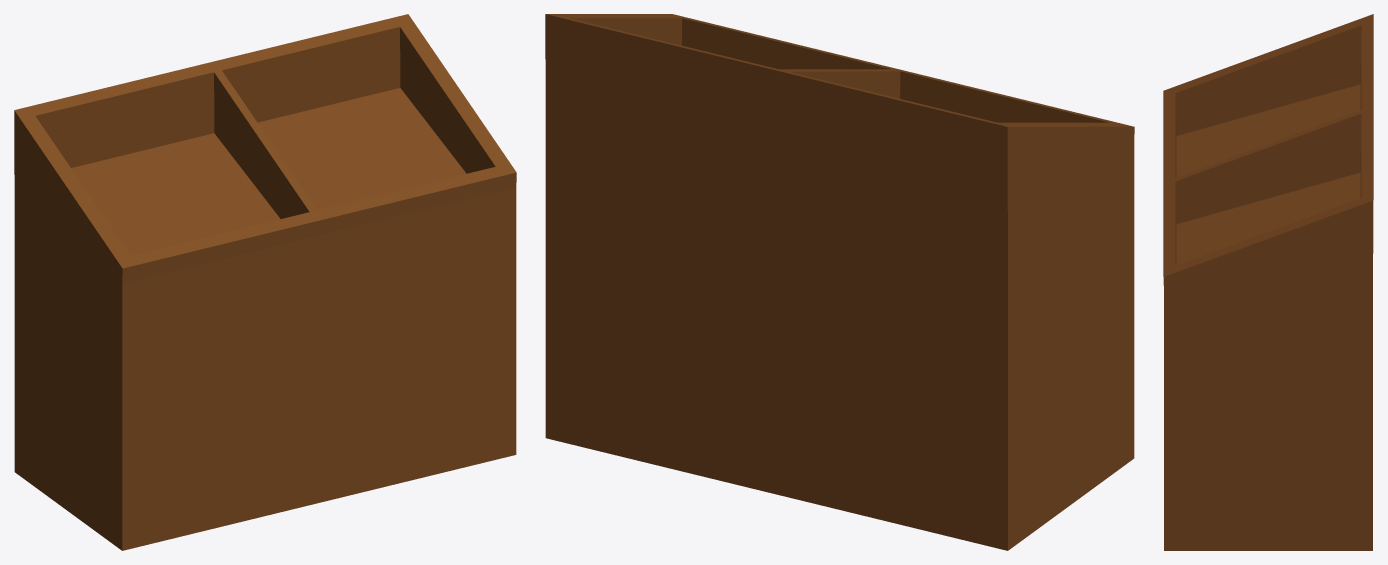
The model's file is fruitStand.fbx.
3 renders of one model, left to right at view 1: azimuth 30°, elevation 25°; view 2: azimuth 150°, elevation 25°; view 3: azimuth 270°, elevation 25°, orthographic. The views are drawn at different scales.
Parts seen in each view (by area): view 1: Fruit Stand; view 2: Fruit Stand; view 3: Fruit Stand.
Boxes of the visible parts, x1,y1,x2,y2 form: Fruit Stand: (14,14,516,550); Fruit Stand: (545,14,1134,550); Fruit Stand: (1163,14,1373,550).
Bounding box in the file's own units: 114 × 54.1 × 99.67.
